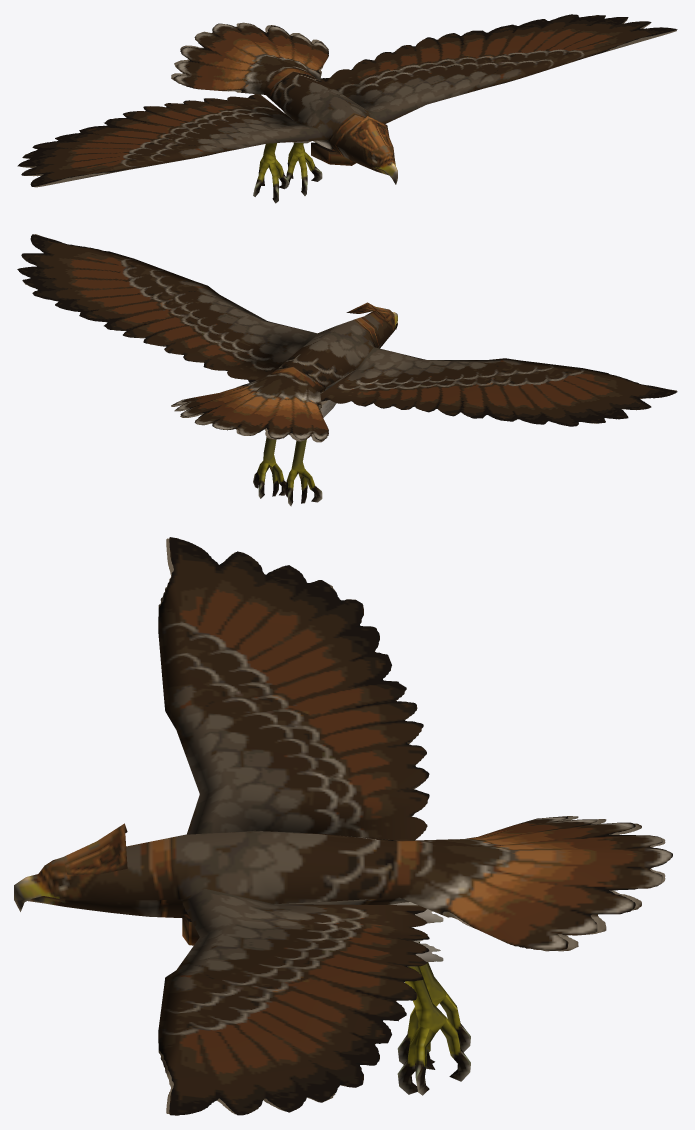
Rendered from pet_hawk_baa1fc3f.glb.
3 views of the same model, one above another, from view 1: azimuth 30°, elevation 25°; view 2: azimuth 150°, elevation 25°; view 3: azimuth 270°, elevation 25° (orthographic). The views are drawn at different scales.
Bounding box in the file's own units: 2.68 × 0.5565 × 1.3.
1 material, 1 textured.
